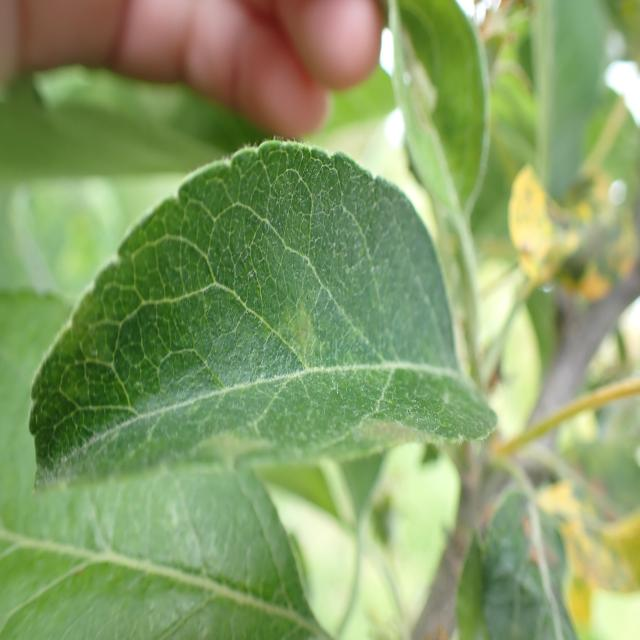scab: (163, 405, 482, 498), (268, 296, 332, 369)
